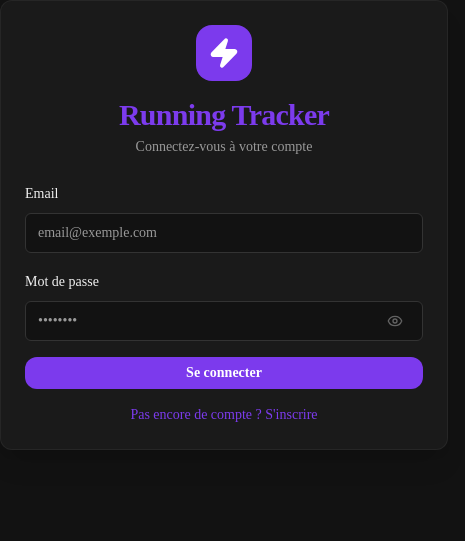
Scenario: LoginCard › inline error handling › clears errors when switching modes
Step 1. Type "test@example.com" into the field with test id "login-email" → (224, 233), box x1=25 y1=213 x2=423 y2=253
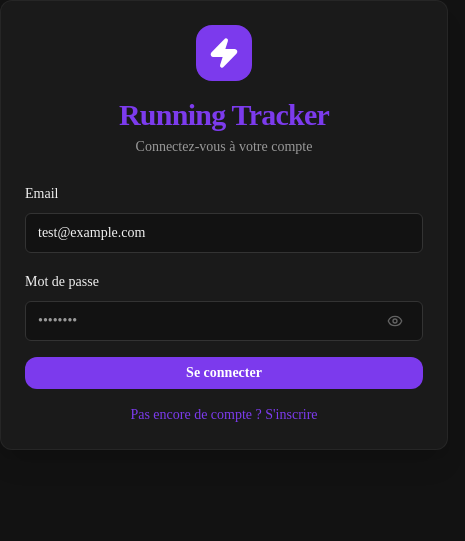
Step 2. Type "wrongpassword" into the password field with test id "login-password" → (224, 321), box x1=25 y1=301 x2=423 y2=341
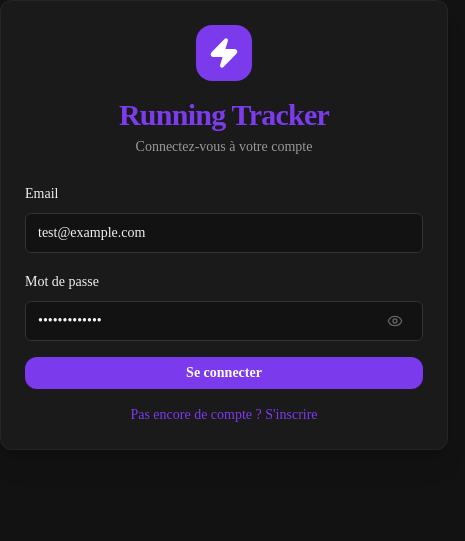
Step 3. Click the button with test id "login-submit" → click(224, 373), box x1=25 y1=357 x2=423 y2=389
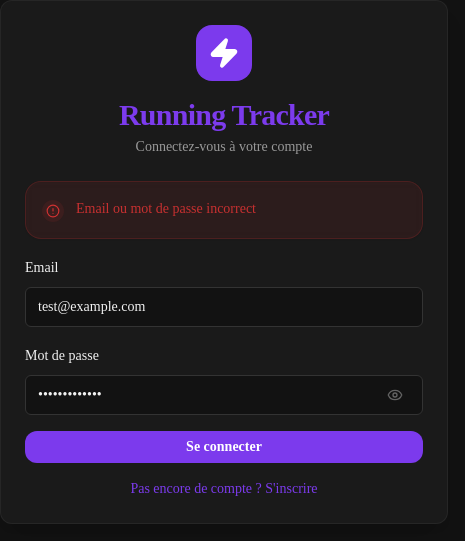
Now the text "Email ou mot de passe incorrect" is shown, box x1=76 y1=201 x2=256 y2=216
Step 4. Click the button "Pas encore de compte ? S'inscrire" → click(224, 489), box x1=130 y1=479 x2=318 y2=499
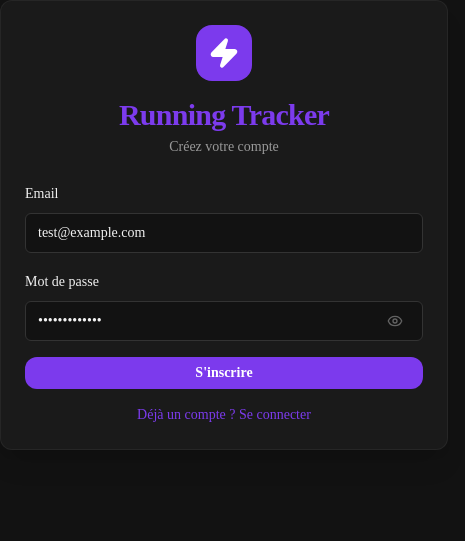
Now the text "Email ou mot de passe incorrect" is gone
